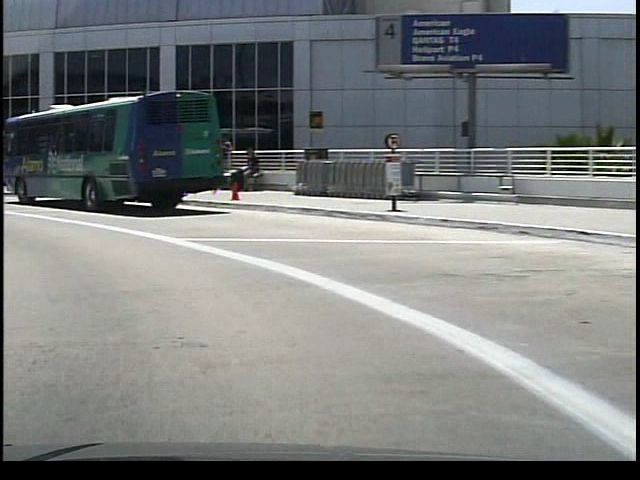person: (231, 144, 258, 194)
